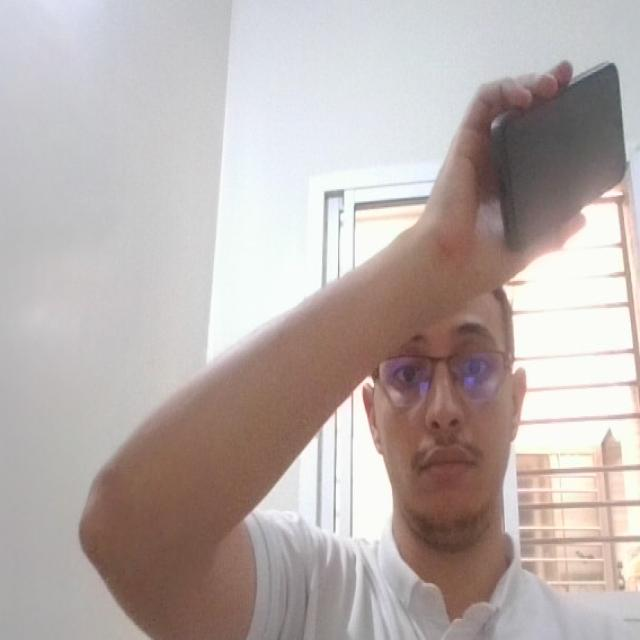phone: (487, 54, 640, 258)
